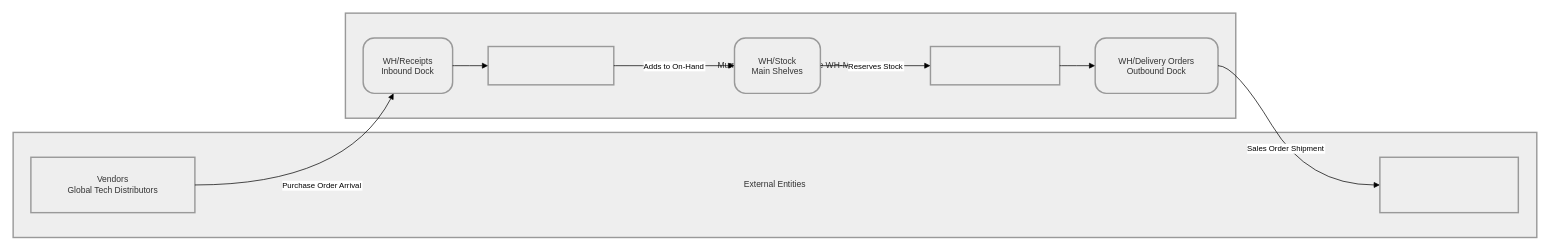
Some shapes in this 1549 by 250 pixel diagram are drawn without their labels. Here are the shapes that lost their labels. From the top down, the centre of each, then its label:
[550,65]: Validate Receipt
[994,65]: Validate Delivery
[1449,184]: Customers TechZone Retailers
